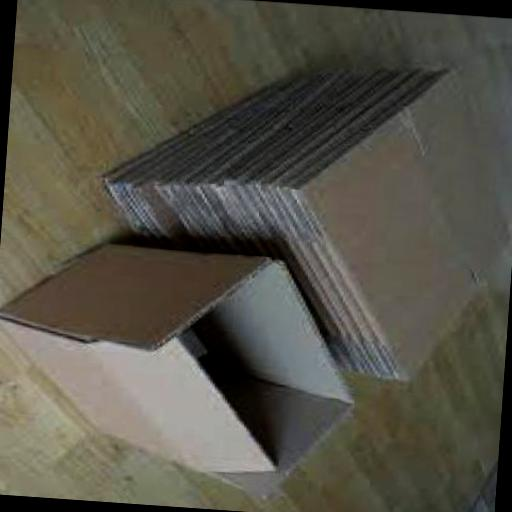cardboard: (93, 46, 512, 381), (0, 231, 371, 500)
